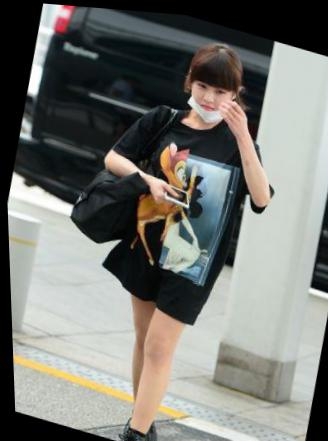WRONG: (184, 68, 235, 121)
